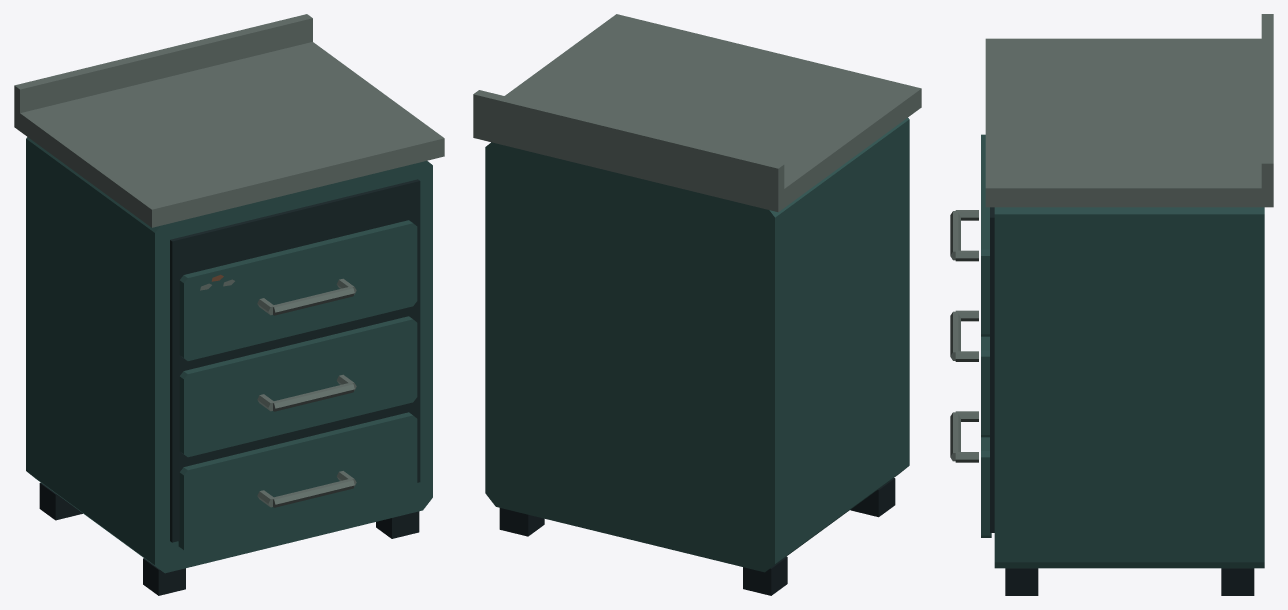
File: parts-cabinet.glb
3 views of the same model, side by side, from view 1: azimuth 30°, elevation 25°; view 2: azimuth 150°, elevation 25°; view 3: azimuth 270°, elevation 25° (orthographic). The views are drawn at different scales.
Visible parts, largest first — view 1: parts-cabinet; view 2: parts-cabinet; view 3: parts-cabinet.
Part boxes in pixels (left/top/right/bottom): parts-cabinet: left=14, top=14, right=444, bottom=595; parts-cabinet: left=473, top=14, right=921, bottom=595; parts-cabinet: left=950, top=14, right=1273, bottom=595.
Size of the model in its own units: 0.59 by 0.81 by 0.539.
